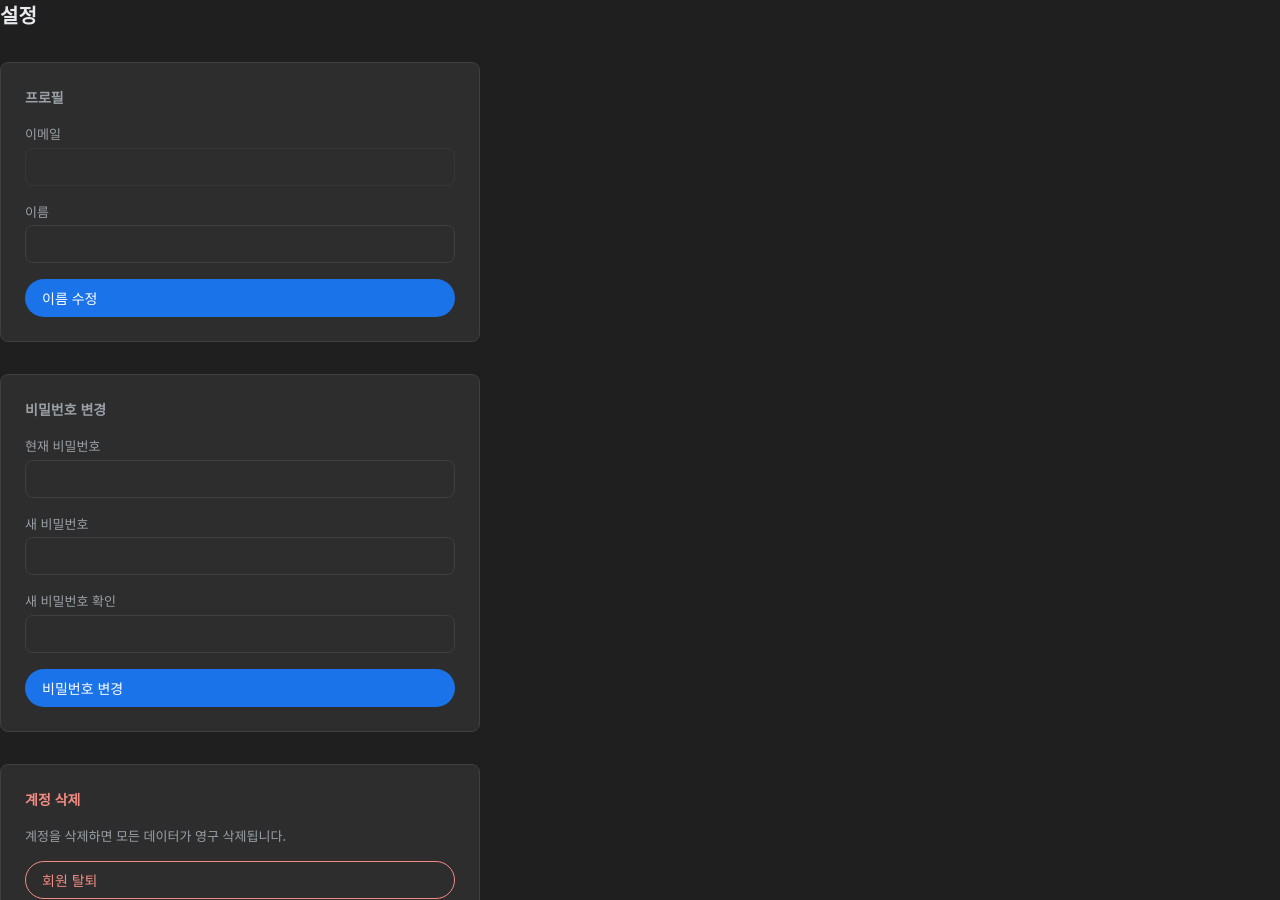
Scenario: FE-12: 사용자 설정 화면 › 회원탈퇴 버튼 클릭 시 ConfirmDialog 표시
Click the button "회원 탈퇴".
click(70, 880)  # box top-left (25, 861), bottom-right (455, 899)
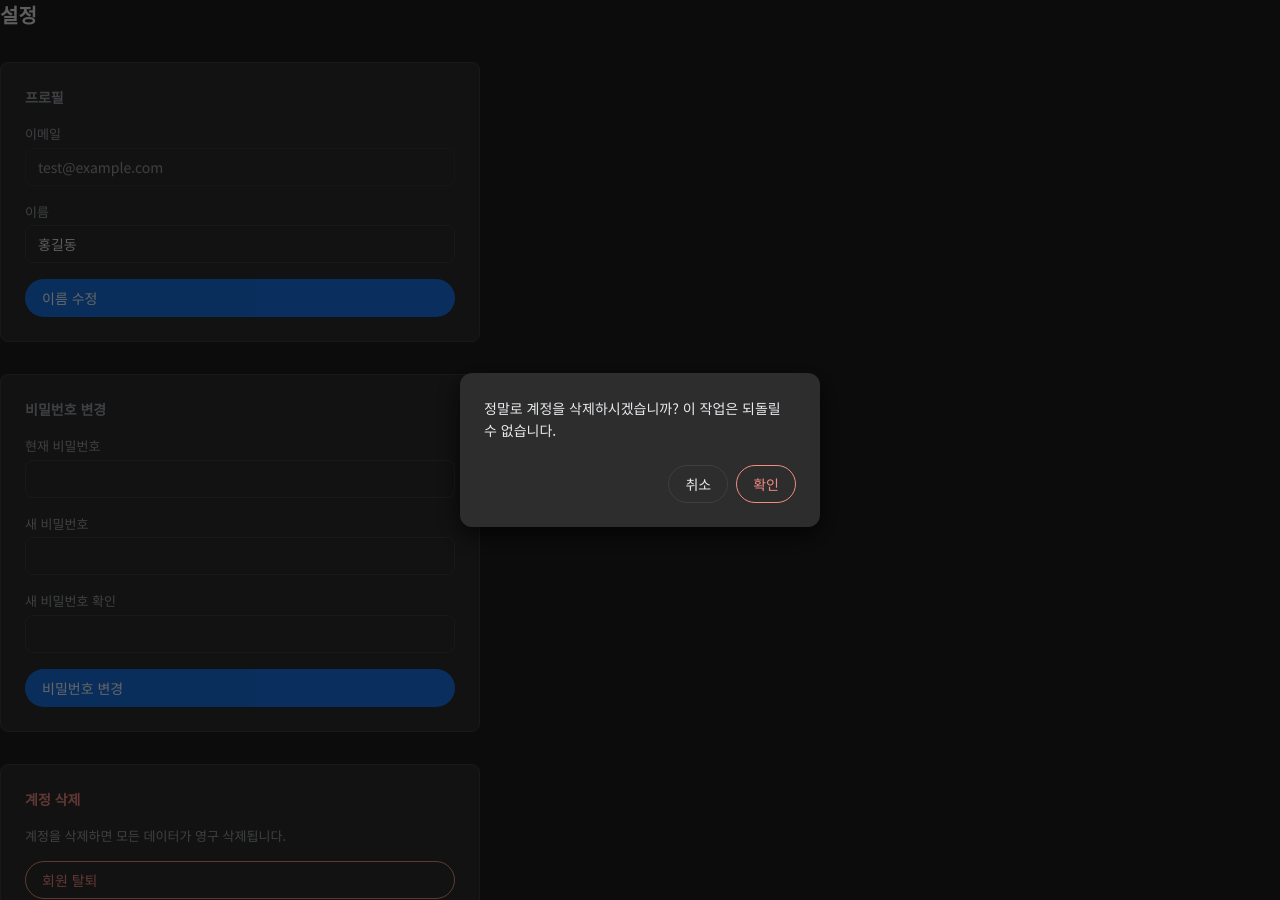
Now the text "정말로 계정을 삭제하시겠습니까? 이 작업은 되돌릴 수 없습니다." is shown, box top-left (484, 397), bottom-right (796, 441)
